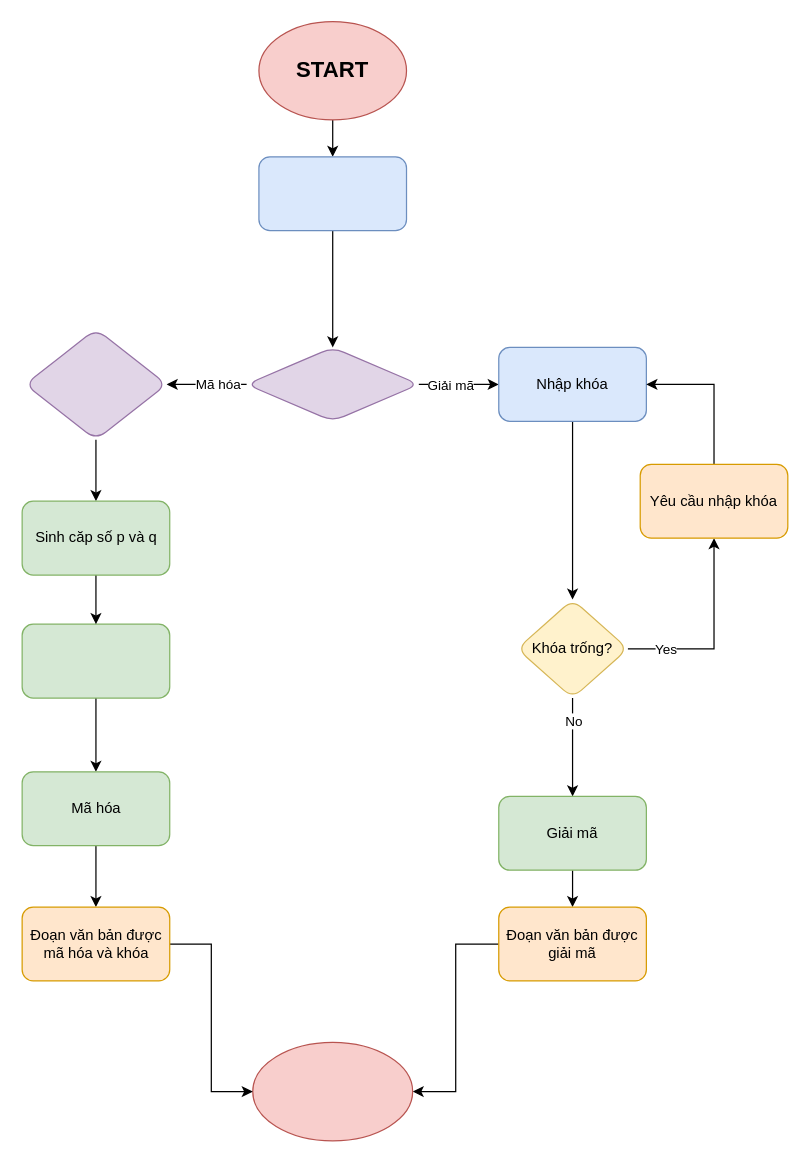
Some shapes in this 809 by 1162 pixel diagram are drawn without their labels. The centre of each missing label's shape, as x and y in pixels:
"Chọn khóa" goes at point (95, 384).
"END" goes at point (332, 1091).
"Giải mã hay Mã hóa" goes at point (332, 383).
"Nhập văn bản" goes at point (332, 193).
"Tạo khóa" goes at point (95, 660).
